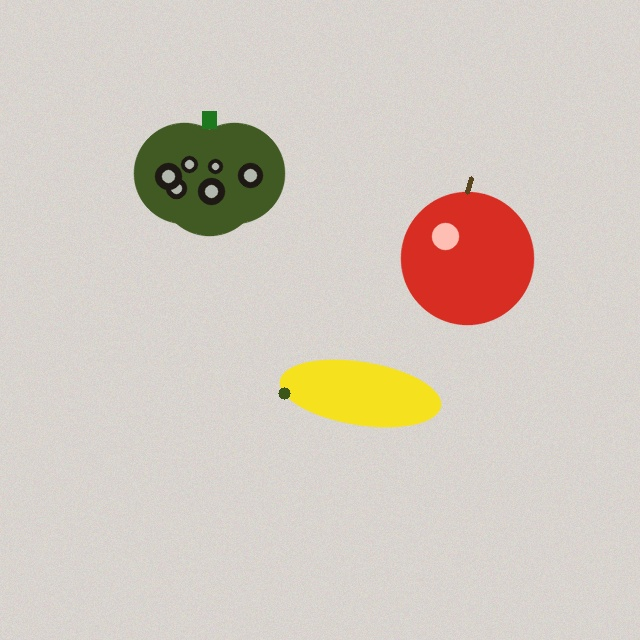Fresh apple: (401, 178, 533, 324)
Fresh banana: (275, 355, 445, 431)
Rotten bell pepper: (134, 111, 284, 235)
